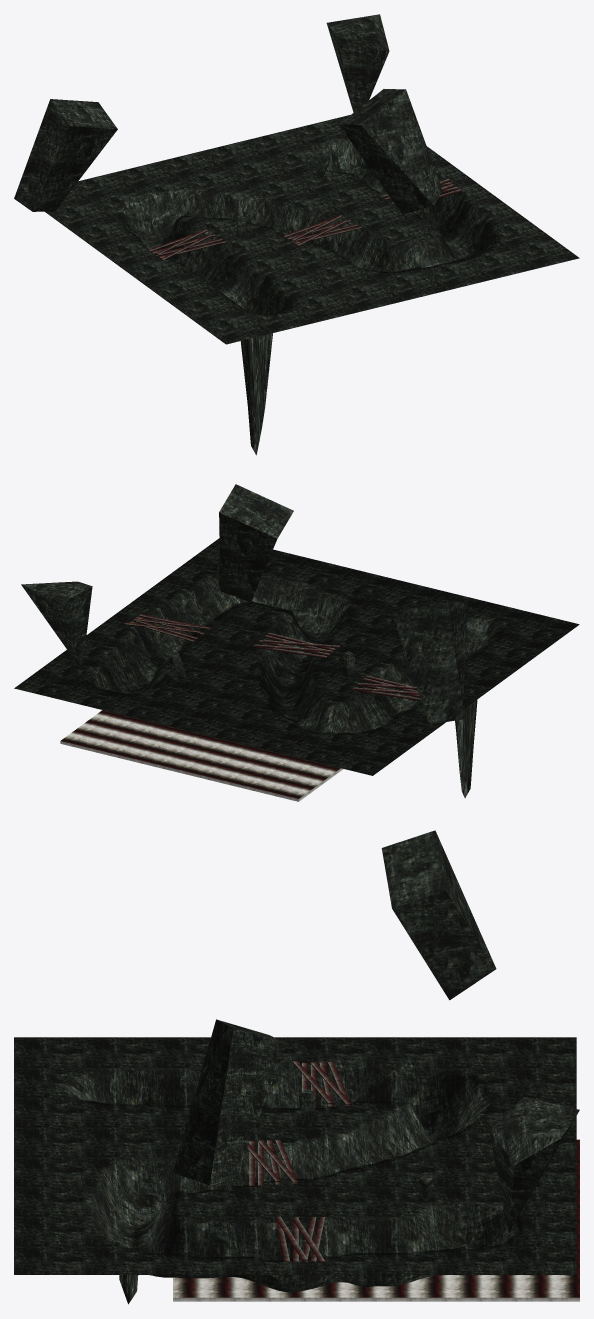
File: PD_trenches.obj
The picture shows the model from 3 angles, top to bottom: view 1: azimuth 30°, elevation 25°; view 2: azimuth 150°, elevation 25°; view 3: azimuth 270°, elevation 25°; orthographic projection. The views are drawn at different scales.
Parts seen in each view (by area): view 1: grp177, grp184, grp175, grp174, grp179, grp180, grp171, grp181, grp173, grp151, grp172, grp178 (+12 smaller); view 2: grp166, grp184, grp176, grp145, grp178, grp174, grp171, grp170, grp173, grp181, grp175, grp179 (+13 smaller); view 3: grp176, grp181, grp184, grp170, grp171, grp182, grp180, grp178, grp166, grp173, grp169, grp172 (+14 smaller).
Boxes of the visible parts, x1=… form: grp177: x1=110, y1=152, x2=249, y2=242; grp184: x1=175, y1=295, x2=313, y2=455; grp175: x1=320, y1=205, x2=440, y2=272; grp174: x1=250, y1=170, x2=388, y2=245; grp179: x1=212, y1=230, x2=351, y2=309; grp180: x1=263, y1=264, x2=402, y2=322; grp171: x1=390, y1=183, x2=528, y2=262; grp181: x1=45, y1=173, x2=160, y2=247; grp173: x1=199, y1=130, x2=326, y2=188; grp151: x1=361, y1=90, x2=442, y2=205; grp172: x1=440, y1=221, x2=579, y2=279; grp178: x1=161, y1=189, x2=283, y2=266; grp166: x1=61, y1=710, x2=340, y2=798; grp184: x1=455, y1=602, x2=579, y2=797; grp176: x1=274, y1=559, x2=400, y2=640; grp145: x1=391, y1=602, x2=464, y2=723; grp178: x1=245, y1=660, x2=386, y2=733; grp174: x1=155, y1=634, x2=296, y2=699; grp171: x1=118, y1=575, x2=252, y2=660; grp170: x1=66, y1=612, x2=206, y2=693; grp173: x1=104, y1=675, x2=244, y2=732; grp181: x1=283, y1=727, x2=424, y2=775; grp175: x1=207, y1=601, x2=346, y2=687; grp179: x1=299, y1=618, x2=412, y2=696; grp176: x1=14, y1=1156, x2=154, y2=1252; grp181: x1=436, y1=1037, x2=576, y2=1140; grp184: x1=14, y1=1037, x2=154, y2=1304; grp170: x1=295, y1=1215, x2=435, y2=1291; grp171: x1=154, y1=1215, x2=295, y2=1292; grp182: x1=295, y1=1037, x2=435, y2=1140; grp180: x1=14, y1=1096, x2=154, y2=1156; grp178: x1=295, y1=1100, x2=435, y2=1178; grp166: x1=173, y1=1139, x2=579, y2=1297; grp173: x1=436, y1=1156, x2=576, y2=1241; grp169: x1=436, y1=1215, x2=576, y2=1275; grp172: x1=14, y1=1215, x2=154, y2=1275.
Size of the model in its own units: 4664 by 3299 by 4120.
